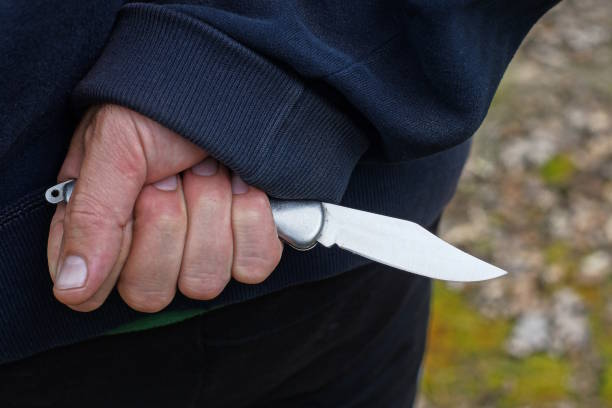knife: (268, 196, 511, 283)
